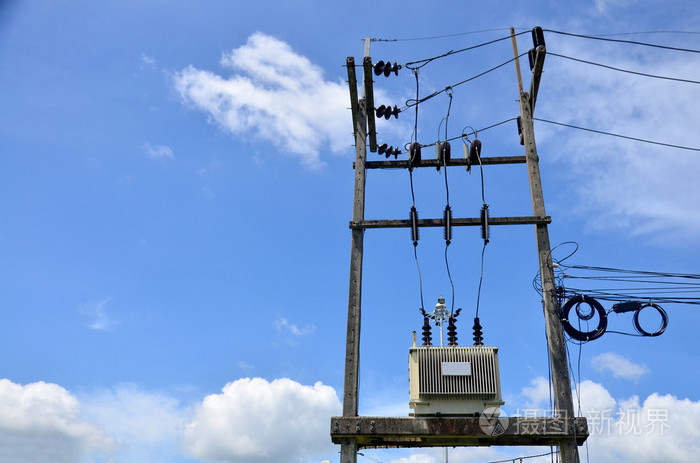insulator: (372, 60, 400, 77), (375, 103, 403, 120), (377, 142, 401, 159), (470, 321, 487, 344), (420, 323, 434, 346), (446, 322, 458, 346)
